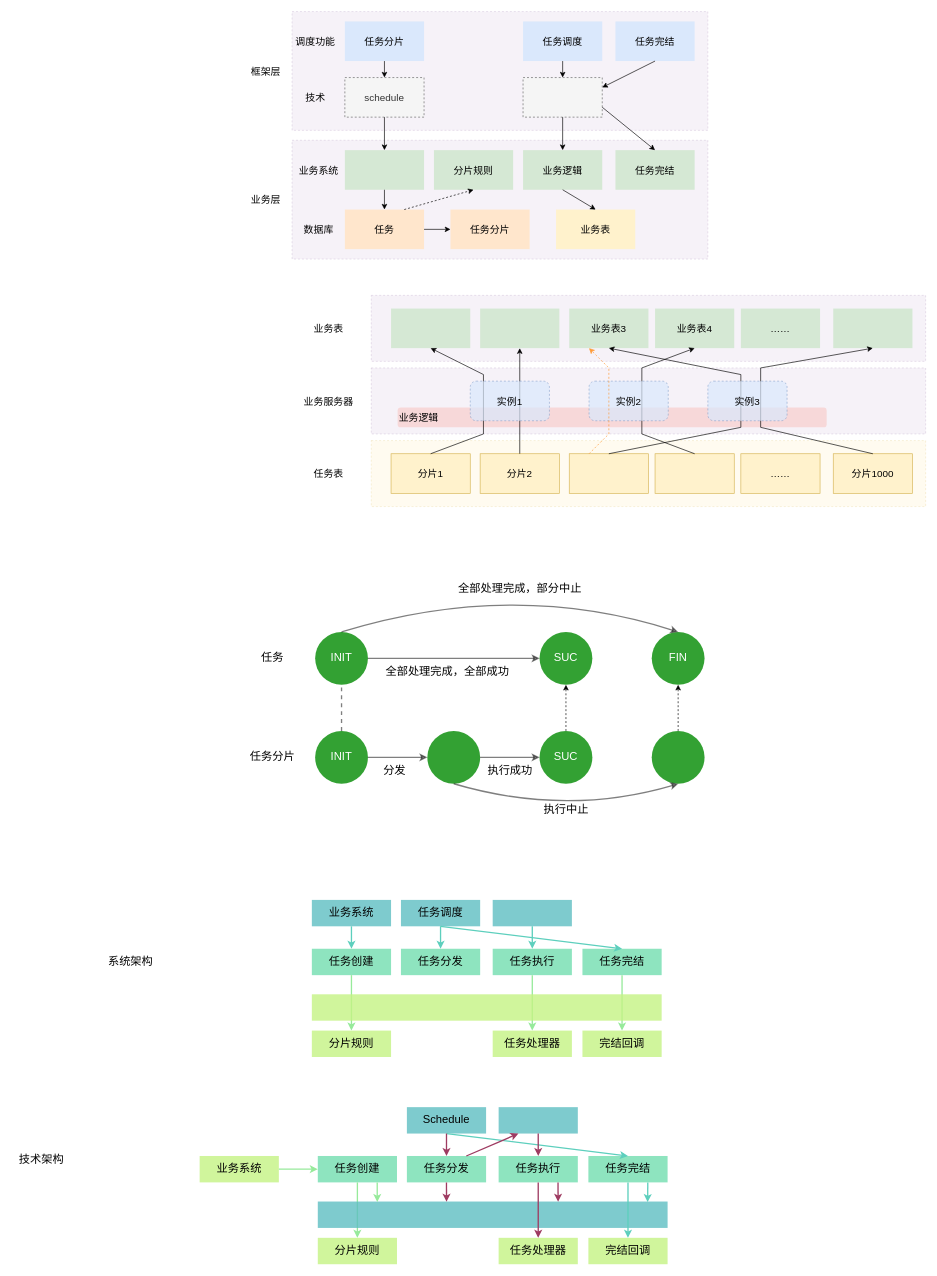
This 937x1276 diagram has some shape labels left out. Here are the shapes that lost their labels. From the top down, the centre of each, then its label:
the point at 562,97: mq
the point at 384,169: 任务注册
the point at 430,328: 业务表1
the point at 519,328: 业务表2
the point at 872,328: 业务表1000
the point at 608,473: 分片3
the point at 694,473: 分片4
the point at 453,757: EXE
the point at 677,757: STOP
the point at 532,913: 消费队列
the point at 486,1007: 任务类型
the point at 538,1120: RocketMQ
the point at 492,1214: Mysql
